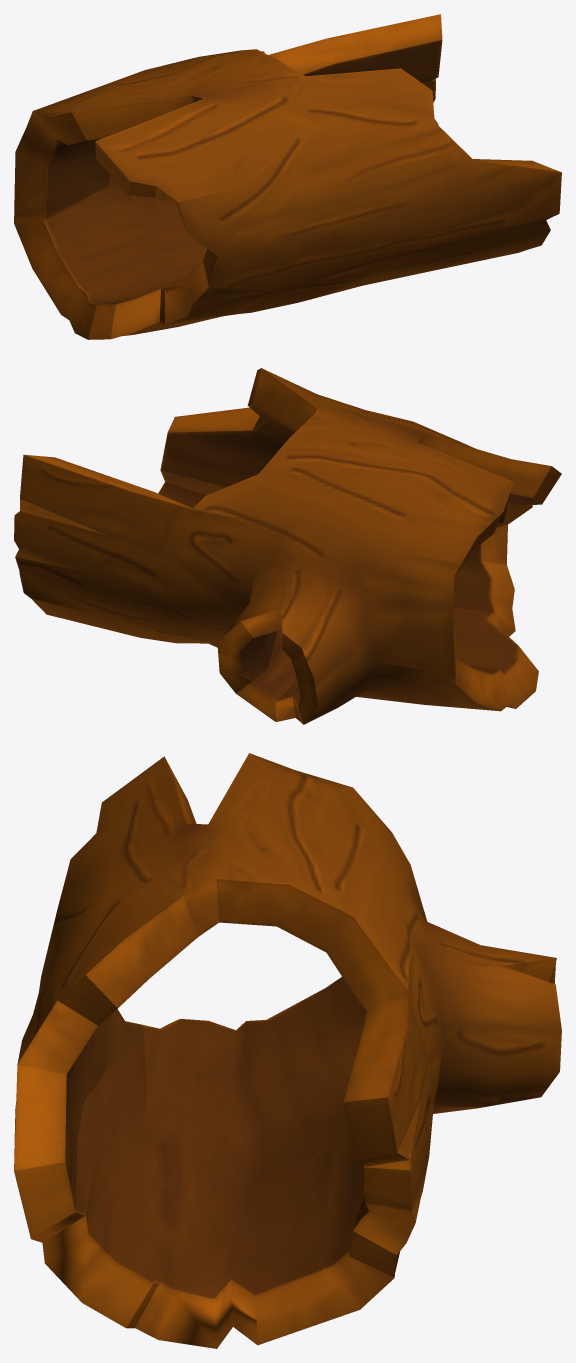
File: Stump_1.fbx
3 renders of one model, top to bottom at view 1: azimuth 30°, elevation 25°; view 2: azimuth 150°, elevation 25°; view 3: azimuth 270°, elevation 25°, orthographic. The views are drawn at different scales.
Parts seen in each view (by area): view 1: Stump_1; view 2: Stump_1; view 3: Stump_1.
Boxes of the visible parts, left/top/right/bottom form: Stump_1: left=14, top=14, right=561, bottom=339; Stump_1: left=14, top=368, right=561, bottom=724; Stump_1: left=14, top=753, right=561, bottom=1348.
Size of the model in its own units: 1.96 by 1.03 by 1.55.
